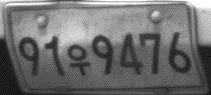1: (43, 35, 64, 76)
4: (118, 31, 143, 76)
6: (167, 31, 192, 74)
7: (138, 31, 161, 75)
9: (90, 33, 114, 77), (17, 36, 40, 78)
우: (65, 42, 91, 76)
